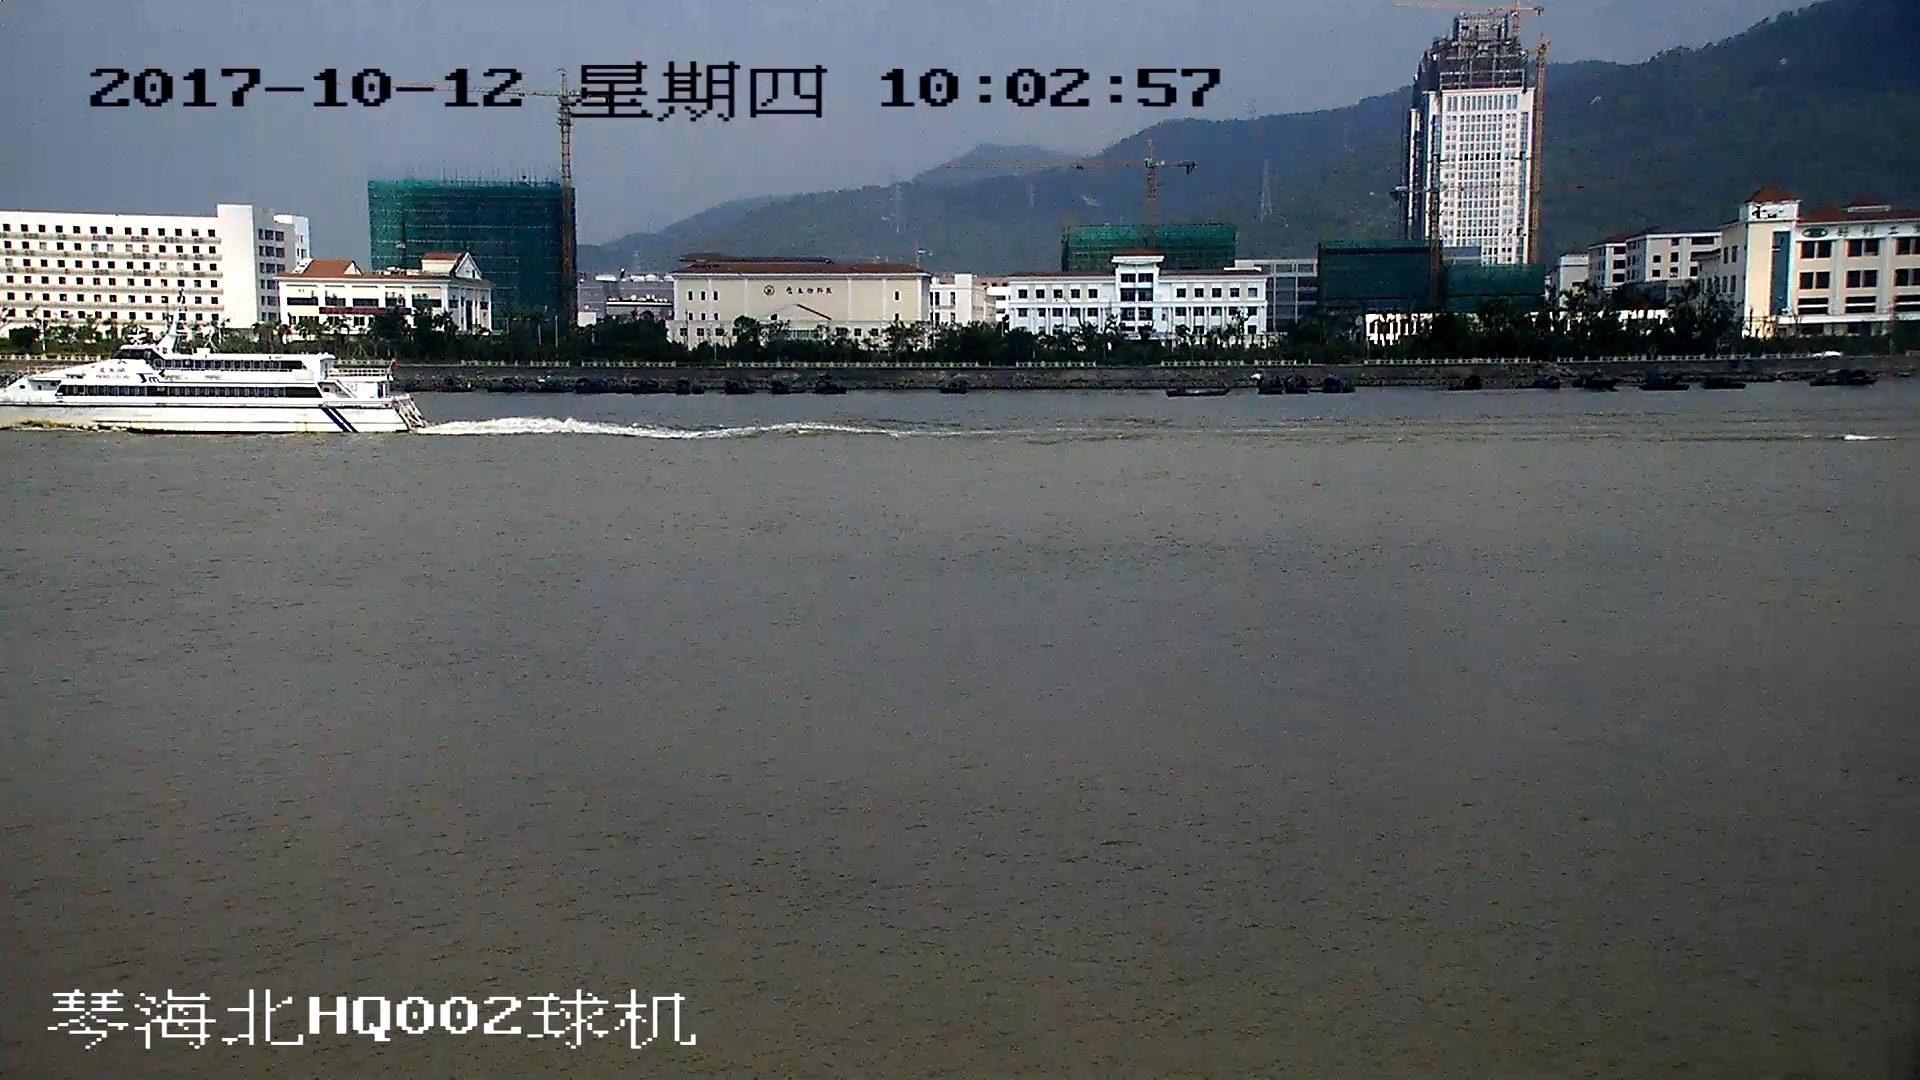passenger ship: (1, 287, 427, 437)
